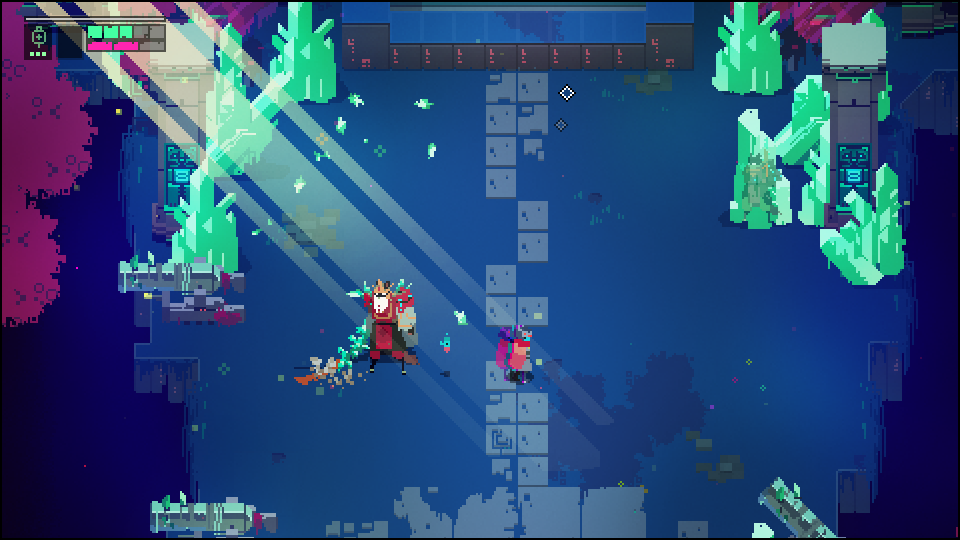hanged_man: (334, 280, 425, 368)
player: (503, 328, 531, 380)
